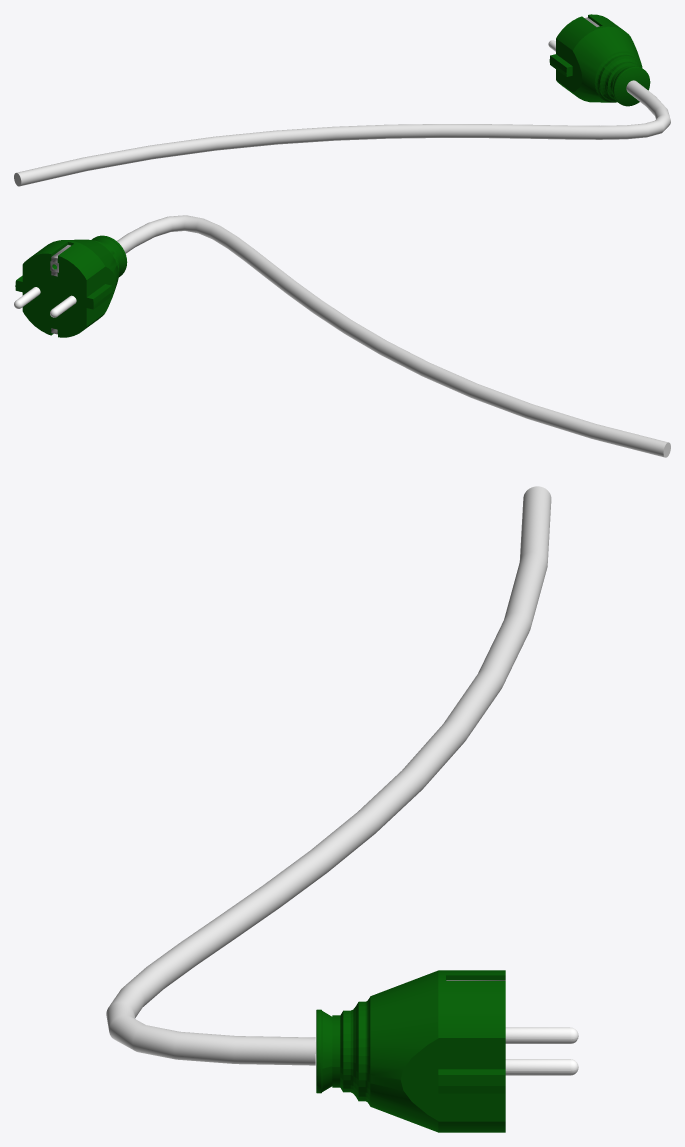
Rendered from plug.fbx.
3 renders of one model, top to bottom at view 1: azimuth 30°, elevation 25°; view 2: azimuth 150°, elevation 25°; view 3: azimuth 270°, elevation 25°, orthographic. The views are drawn at different scales.
Visible parts, largest first — view 1: Sweep, Cylin2, Cylin3, Cylinder; view 2: Sweep, Cylin3, Cylin2, Cylinder; view 3: Sweep, Cylin2, Cylin3, Cylinder, Cylin1, Cylin.
Boxes of the visible parts, x1=… form: Sweep: x1=14, y1=80, x2=670, y2=186; Cylin2: x1=572, y1=26, x2=642, y2=102; Cylin3: x1=549, y1=14, x2=623, y2=96; Cylinder: x1=612, y1=66, x2=650, y2=106; Sweep: x1=117, y1=215, x2=670, y2=457; Cylin3: x1=15, y1=240, x2=112, y2=337; Cylin2: x1=68, y1=239, x2=119, y2=312; Cylinder: x1=91, y1=235, x2=127, y2=277; Sweep: x1=106, y1=486, x2=551, y2=1065; Cylin2: x1=340, y1=970, x2=438, y2=1132; Cylin3: x1=438, y1=970, x2=505, y2=1132; Cylinder: x1=316, y1=1009, x2=332, y2=1093; Cylin1: x1=505, y1=1027, x2=578, y2=1043; Cylin: x1=505, y1=1059, x2=578, y2=1075.
Size of the model in its own units: 20986 by 2489 by 7217.
